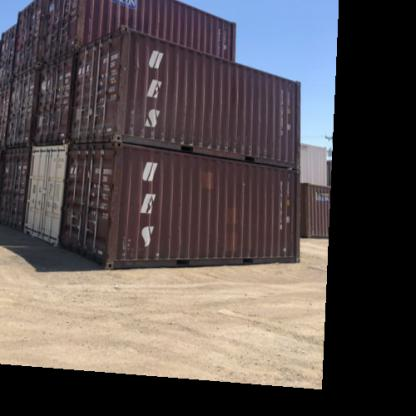Damage: (109, 171, 134, 226)
